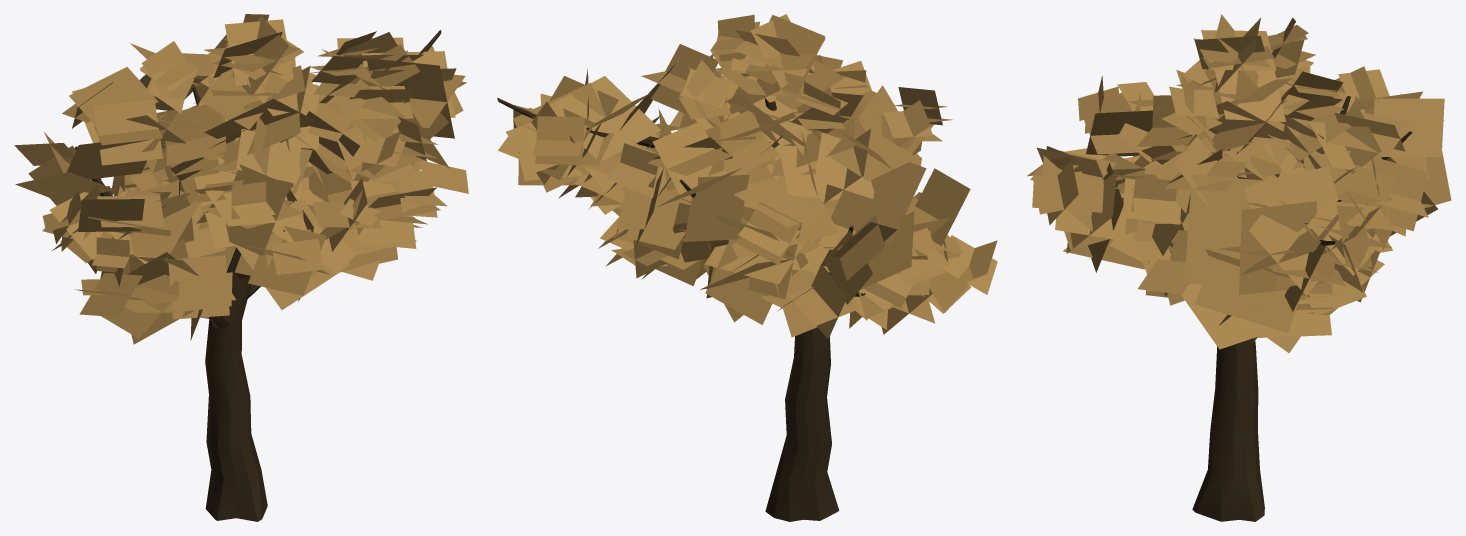
File: Maple LOD 0.fbx
The picture shows the model from 3 angles, left to right: view 1: azimuth 30°, elevation 25°; view 2: azimuth 150°, elevation 25°; view 3: azimuth 270°, elevation 25°; orthographic projection. The views are drawn at different scales.
Visible parts, largest first — view 1: Maple_LOD_0; view 2: Maple_LOD_0; view 3: Maple_LOD_0.
Part boxes in pixels (x1=…): Maple_LOD_0: x1=14, y1=14, x2=468, y2=521; Maple_LOD_0: x1=497, y1=14, x2=997, y2=521; Maple_LOD_0: x1=1027, y1=14, x2=1451, y2=521.
Size of the model in its own units: 11.83 by 12.5 by 9.78.
